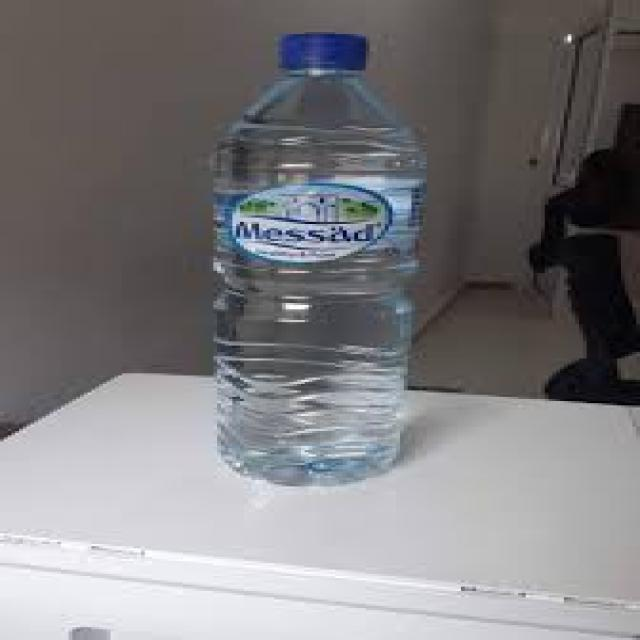Flask: (172, 28, 476, 498)
